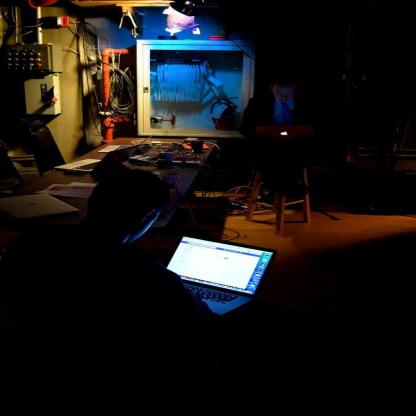board: (159, 230, 282, 314), (55, 144, 139, 171), (0, 194, 79, 217), (96, 133, 154, 154), (253, 125, 312, 144)
